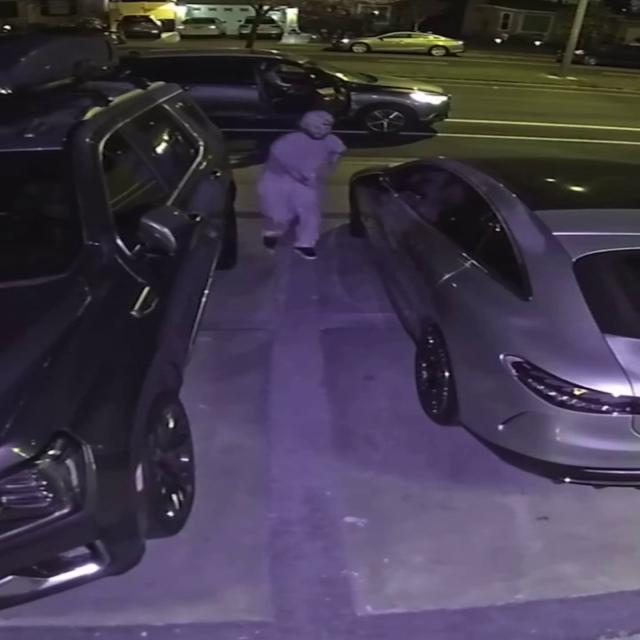Theft - Alert: (121, 50, 448, 256), (392, 158, 507, 250)
